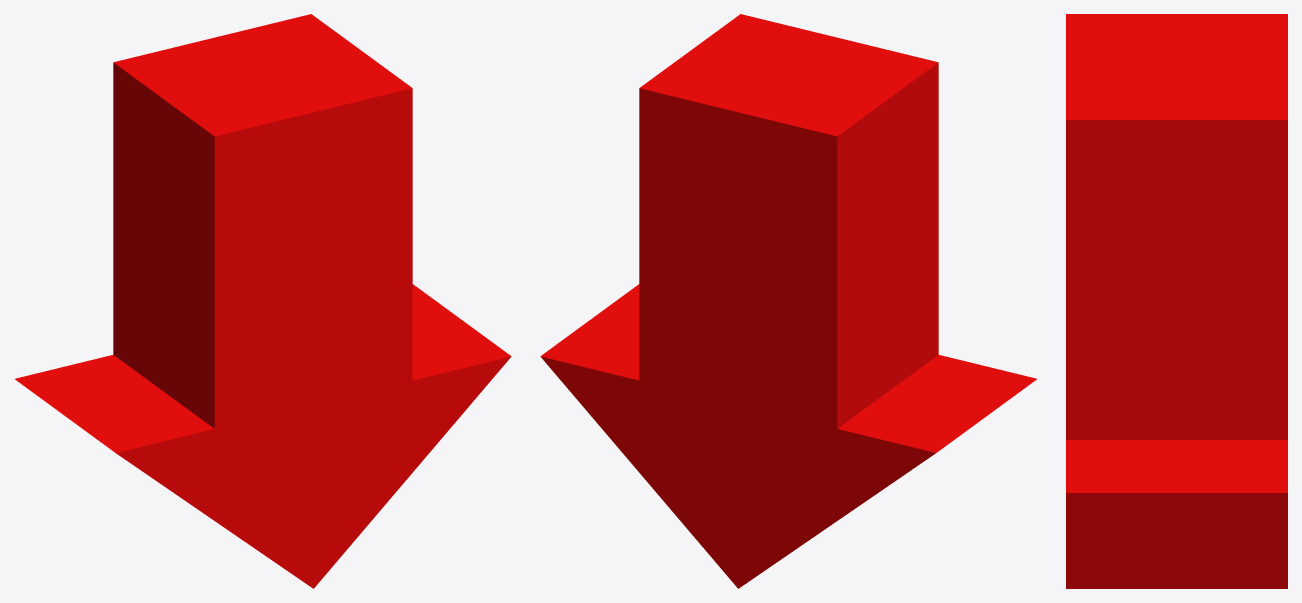
File: arrow.obj
The picture shows the model from 3 angles, left to right: view 1: azimuth 30°, elevation 25°; view 2: azimuth 150°, elevation 25°; view 3: azimuth 270°, elevation 25°; orthographic projection. The views are drawn at different scales.
Visible parts, largest first — view 1: arrow_Cube.001; view 2: arrow_Cube.001; view 3: arrow_Cube.001.
Part boxes in pixels (left/top/right/bottom): arrow_Cube.001: left=15, top=14, right=511, bottom=588; arrow_Cube.001: left=540, top=14, right=1036, bottom=588; arrow_Cube.001: left=1066, top=14, right=1287, bottom=588.
Size of the model in its own units: 0.9 by 1.03 by 0.3987.
